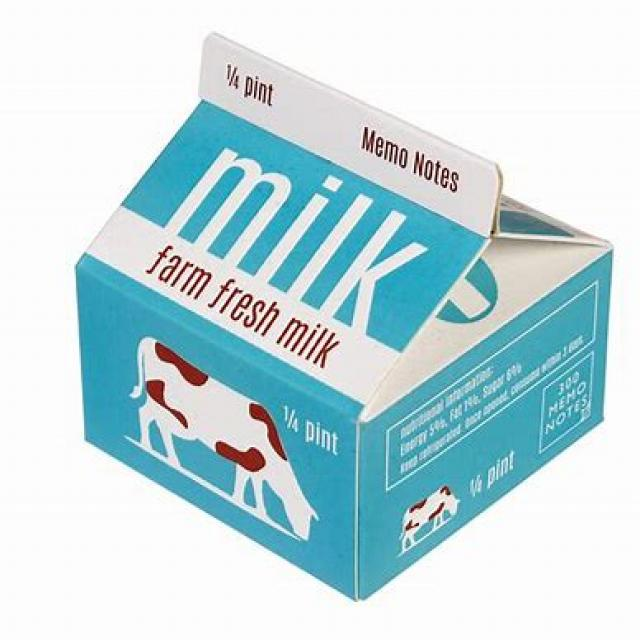non_white_jug: (68, 16, 614, 606)
